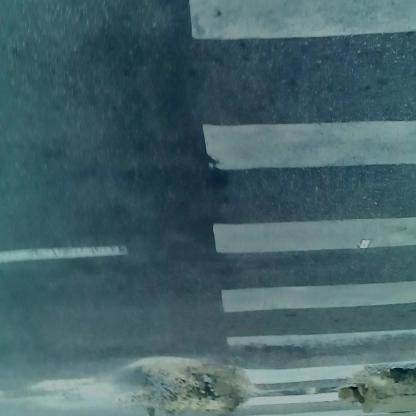crosswalk: (203, 2, 416, 399)
